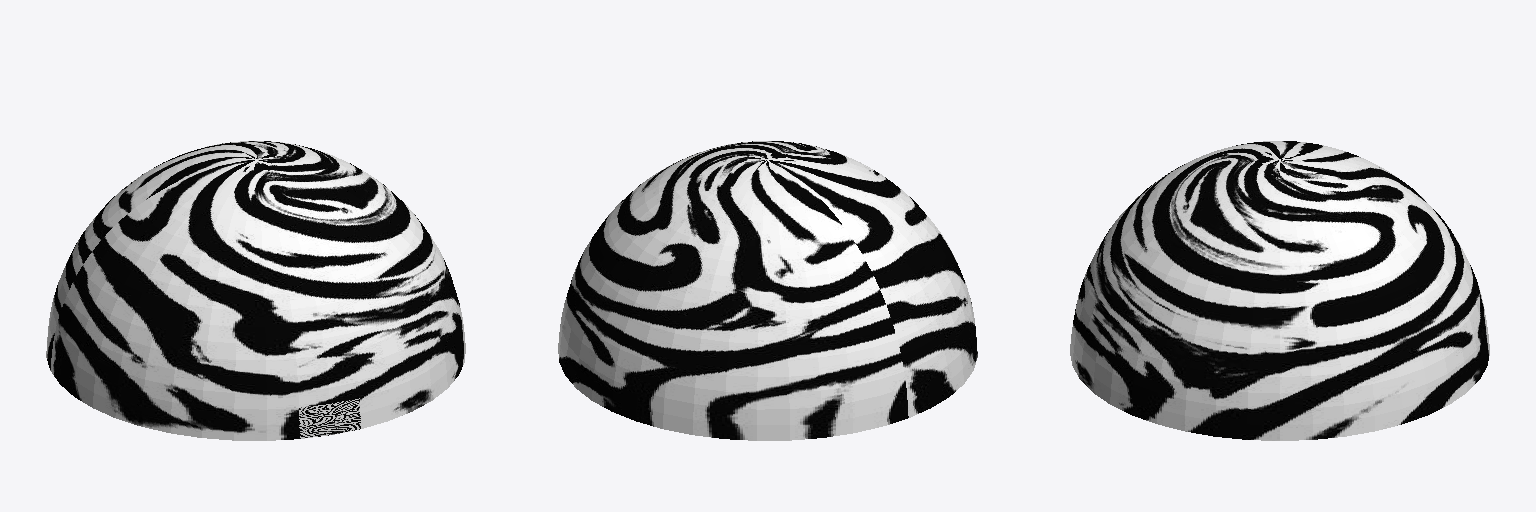
3 renders of one model, left to right at view 1: azimuth 30°, elevation 25°; view 2: azimuth 150°, elevation 25°; view 3: azimuth 270°, elevation 25°, orthographic.
Visible parts, largest first — view 1: pSphere8; view 2: pSphere8; view 3: pSphere8.
Boxes of the visible parts, box(x1,y1,x2,y2) form: pSphere8: box(46, 141, 465, 440); pSphere8: box(558, 141, 977, 440); pSphere8: box(1070, 141, 1489, 440).
Size of the model in its own units: 7.11 by 3.6 by 7.11.
1 materials, 1 textured.